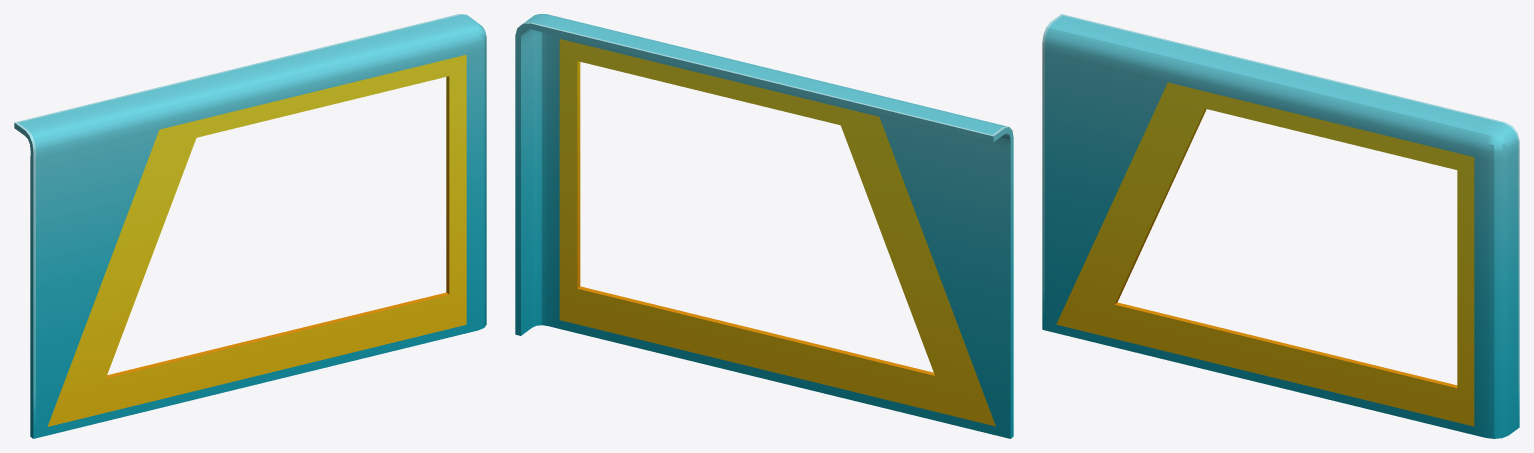
The model's file is CassetteLid.fbx.
The picture shows the model from 3 angles, left to right: view 1: azimuth 30°, elevation 25°; view 2: azimuth 150°, elevation 25°; view 3: azimuth 330°, elevation 25°; orthographic projection. The views are drawn at different scales.
Parts seen in each view (by area): view 1: Animatoin00:Walkman_Lid; view 2: Animatoin00:Walkman_Lid; view 3: Animatoin00:Walkman_Lid.
Part boxes in pixels (left/top/right/bottom): Animatoin00:Walkman_Lid: left=14, top=14, right=486, bottom=438; Animatoin00:Walkman_Lid: left=515, top=14, right=1013, bottom=438; Animatoin00:Walkman_Lid: left=1042, top=14, right=1519, bottom=438.
Bounding box in the file's own units: 10.83 × 6.82 × 0.7871.
